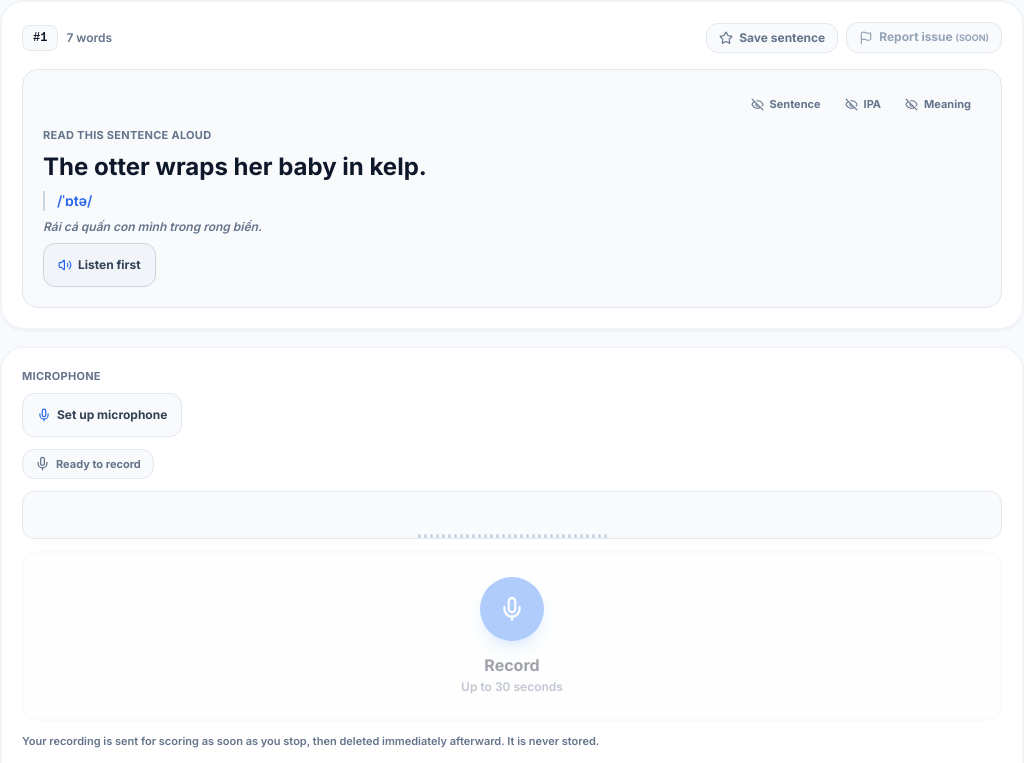
Scenario: ShadowingModePanel — failures each say their own thing › gives instructions, not an apology, when the microphone is blocked
Click the button "Set up microphone" at (102, 414), box [22,392,182,436]
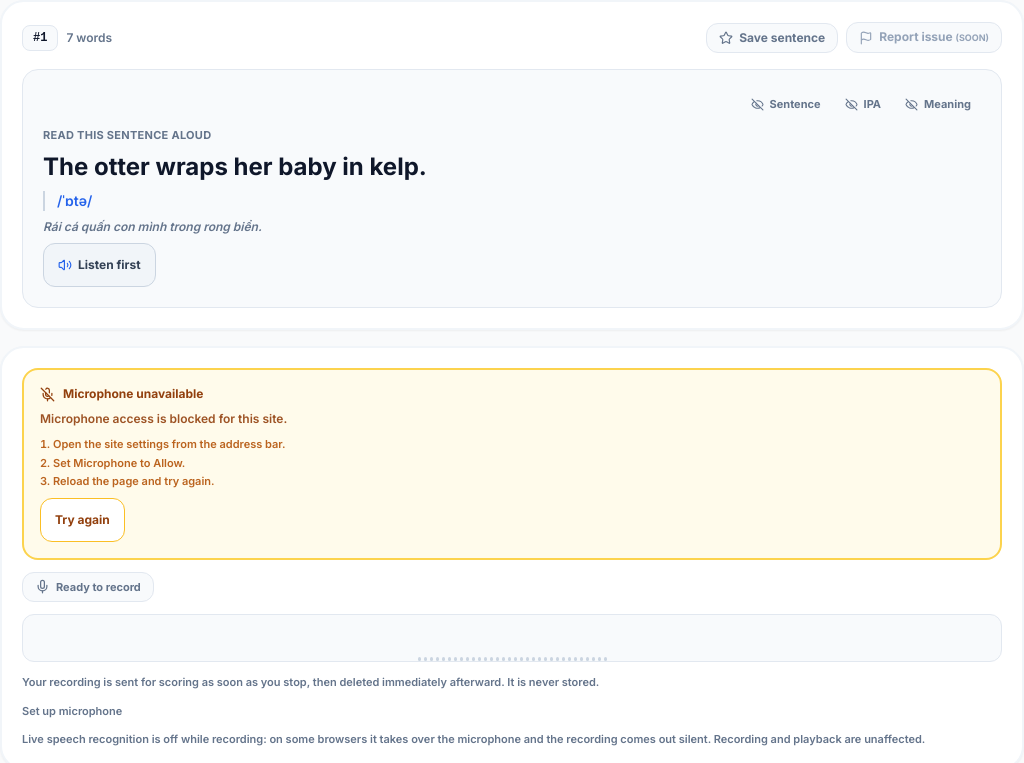
Expected: the dialog shows "Microphone access is blocked for this site.", [40,411,287,426]
Expected: the dialog shows "Set Microphone to Allow.", [53,456,185,470]
